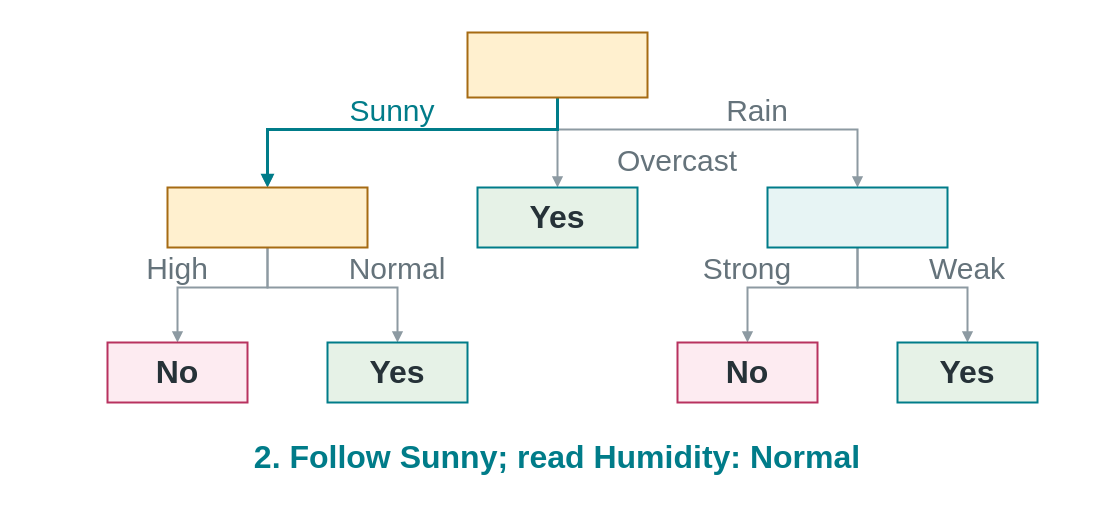
Some shapes in this 1114 by 514 pixel diagram are drawn without their labels. Here are the shapes that lost their labels. From the top down, the box of each, then its label:
(466, 31, 648, 98): Outlook
(166, 186, 368, 248): Humidity
(766, 186, 948, 248): Wind
